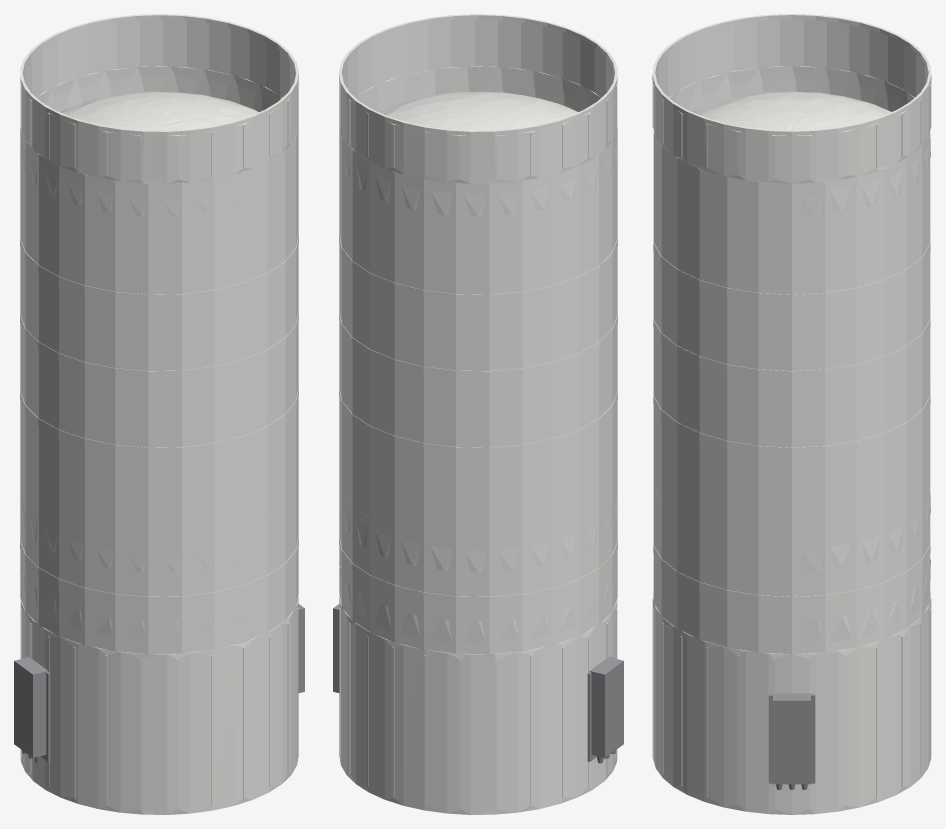
The model's file is SV_IVB.glb.
3 renders of one model, left to right at view 1: azimuth 30°, elevation 25°; view 2: azimuth 150°, elevation 25°; view 3: azimuth 270°, elevation 25°, orthographic.
Parts seen in each view (by area): view 1: SV-IVB-020, SV-IVB-010, SV-IVB-030, SV-IVB-040, SV-IVB-050__i02, SV-IVB-050__i01; view 2: SV-IVB-020, SV-IVB-010, SV-IVB-030, SV-IVB-040, SV-IVB-050__i02, SV-IVB-050__i01; view 3: SV-IVB-020, SV-IVB-010, SV-IVB-030, SV-IVB-040, SV-IVB-050__i01.
Part boxes in pixels (x1,y1,x2,y2): SV-IVB-020: [20, 66, 298, 539]; SV-IVB-010: [20, 594, 298, 814]; SV-IVB-030: [20, 479, 298, 654]; SV-IVB-040: [20, 14, 298, 183]; SV-IVB-050__i02: [14, 657, 50, 763]; SV-IVB-050__i01: [298, 604, 304, 692]; SV-IVB-020: [339, 66, 617, 539]; SV-IVB-010: [339, 594, 617, 814]; SV-IVB-030: [339, 479, 617, 654]; SV-IVB-040: [339, 14, 617, 183]; SV-IVB-050__i02: [587, 657, 623, 763]; SV-IVB-050__i01: [333, 604, 339, 692]; SV-IVB-020: [653, 66, 930, 539]; SV-IVB-010: [652, 591, 931, 814]; SV-IVB-030: [653, 488, 930, 654]; SV-IVB-040: [652, 14, 931, 183]; SV-IVB-050__i01: [768, 693, 815, 789].
Bounding box in the file's own units: 7.44 × 18.52 × 6.61.
Materials: 2 (2 with a texture image).
